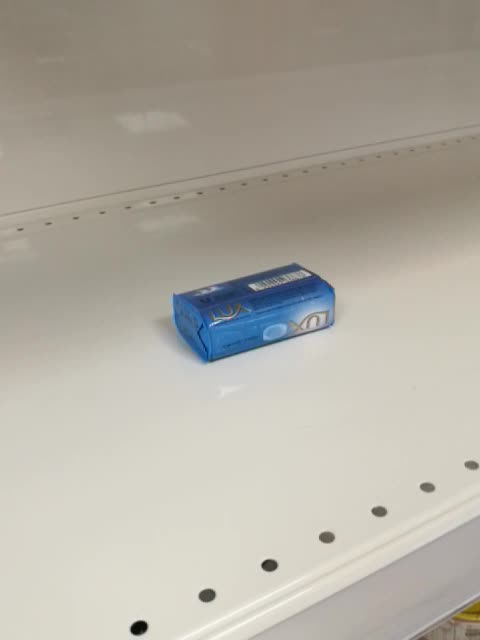soap: (169, 260, 338, 363)
